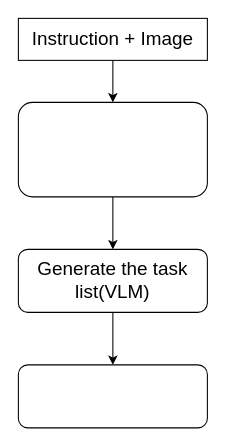
This 226x446 diagram has some shape labels left out. The shapes that lost their labels are listed below. From the top down, each one's centre as x and y in pixels, then its label:
the point at 112,149: Calculate the certain positon(OpenCV or YOLO)
the point at 112,396: Robot arm executes the skills
